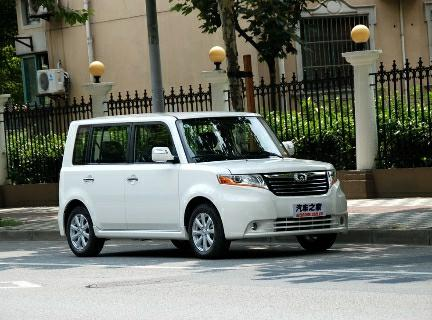car: (52, 105, 355, 265)
